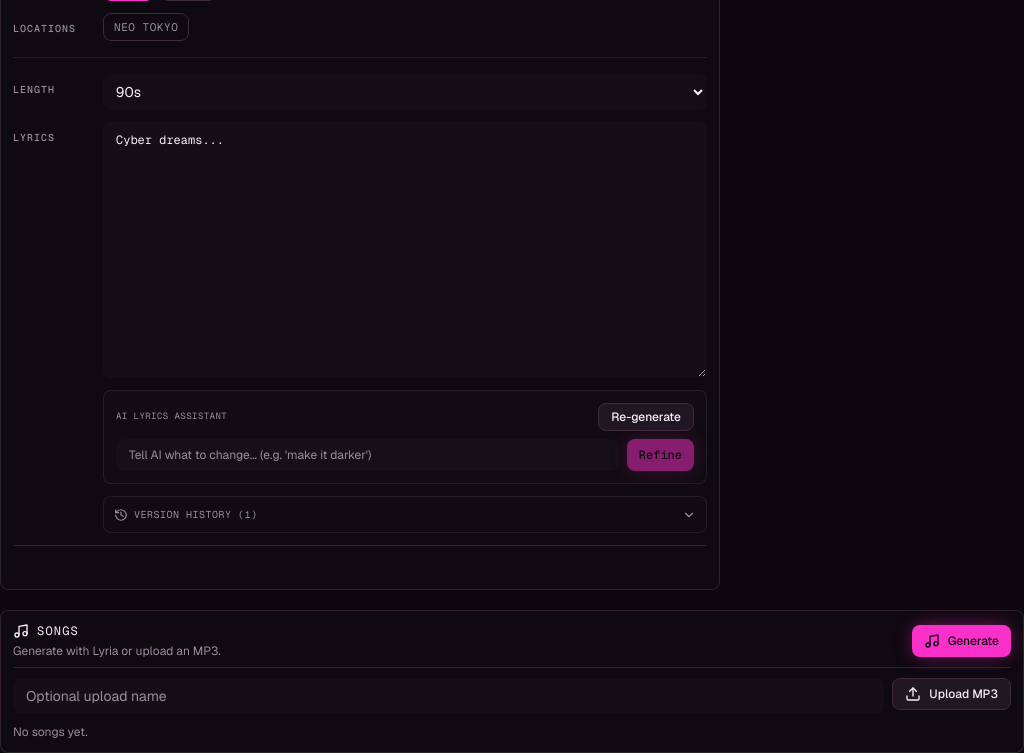
Test: StoryForm › Edit Mode › displays LyricsHistoryPanel when versions exist
(page scrolled)
Expected: the text "Version History (1)" is shown, top-left (114, 507), bottom-right (258, 522)
Click the button "Version History (1)" at [189, 514], box top-left (114, 507), bottom-right (696, 522)
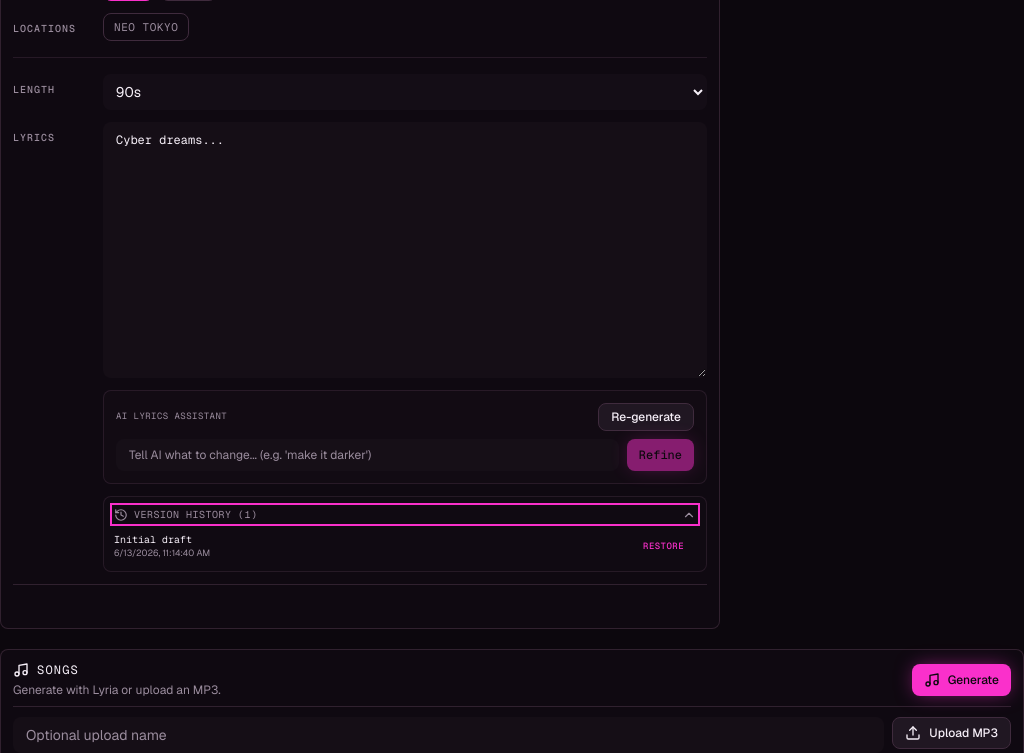
Result: the text "Initial draft" is shown at top-left (114, 533), bottom-right (192, 546)
Result: the button "Restore" is shown at top-left (635, 534), bottom-right (692, 558)
